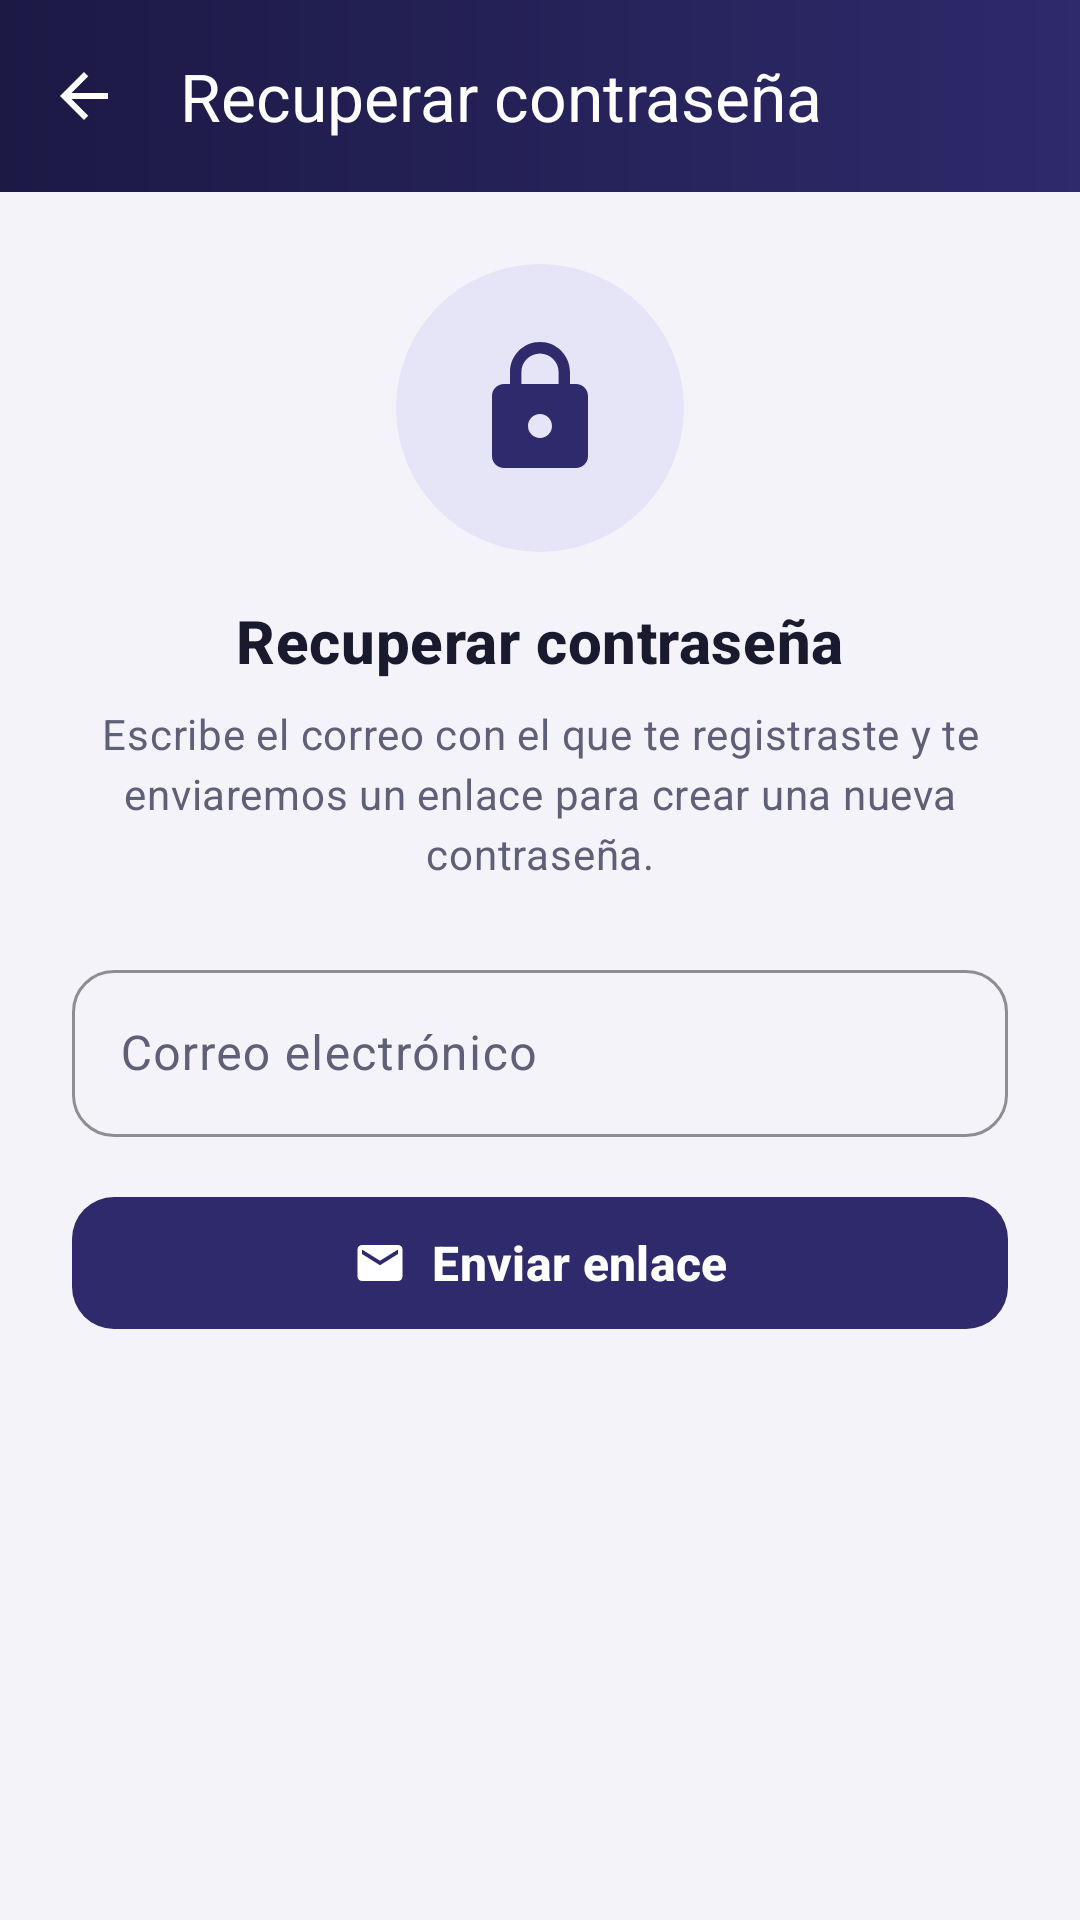

Screen size 1080px x 1920px. Icon name, then its box in pixels as (x1,y1,x2,y2):
lock: (492,342,588,468)
